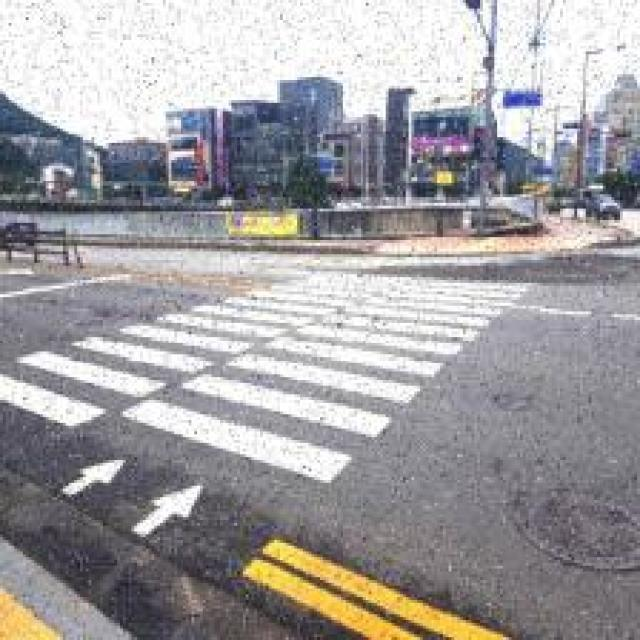crosswalk: (9, 256, 537, 487)
